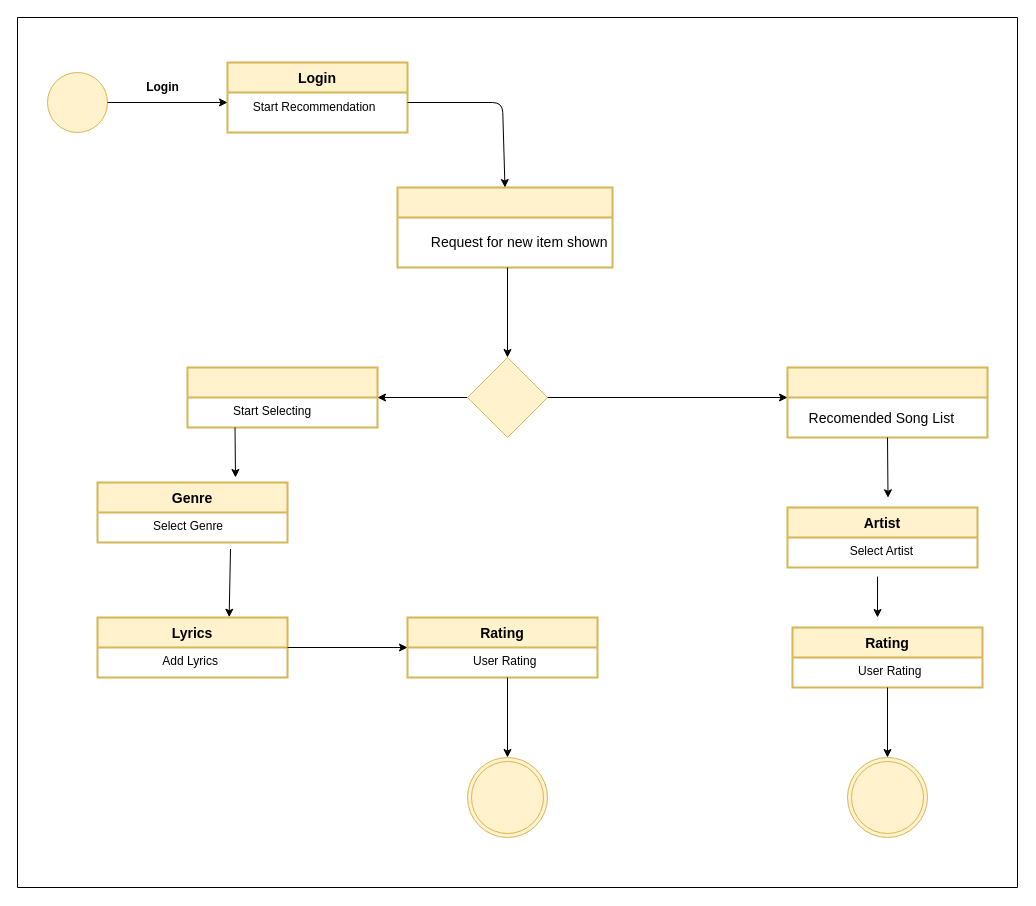
The diagram is 1036 pixels wide and 906 high, and some of its shapes have lost their labels. Here are the shapes that lost their labels. From the top down, the box of each, then its label:
(396, 186, 613, 268): Recommendation Started
(186, 366, 378, 428): Item Select
(786, 366, 988, 438): Recommendation Item Select
